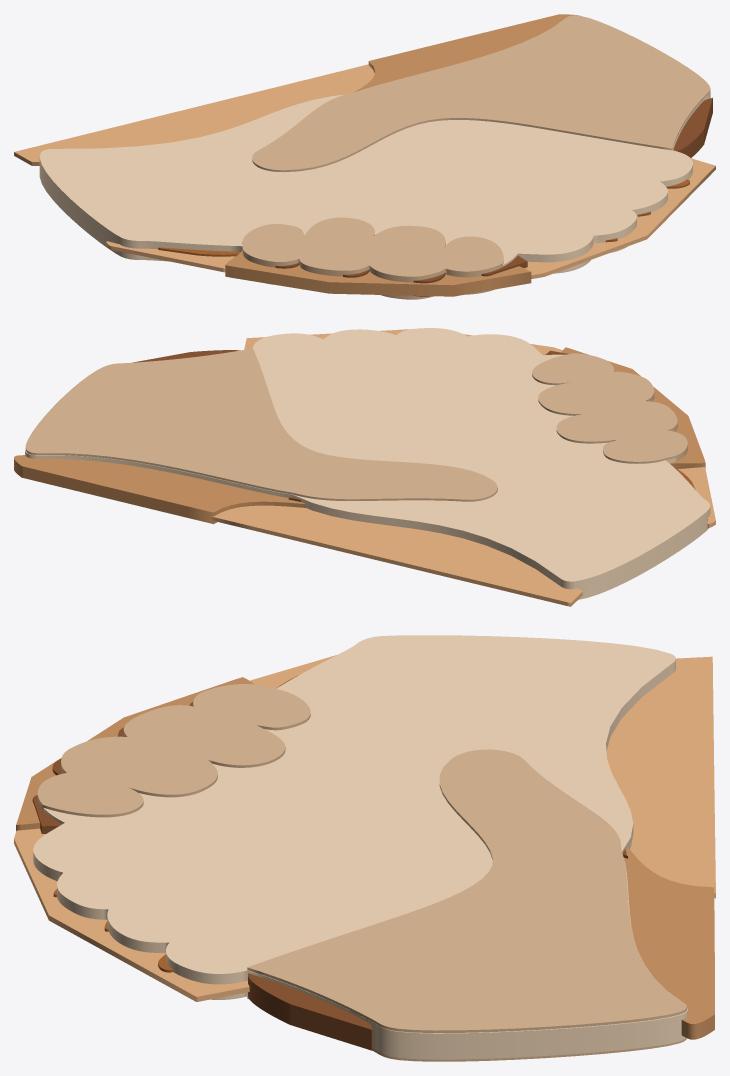
The model's file is emoji_u1faf1_1f3fb_200d_1faf2_1f3fc.glb.
3 renders of one model, top to bottom at view 1: azimuth 30°, elevation 25°; view 2: azimuth 150°, elevation 25°; view 3: azimuth 270°, elevation 25°, orthographic. The views are drawn at different scales.
Parts seen in each view (by area): view 1: emoji_u1faf1_1f3fb_200d_1faf2_1f3fc; view 2: emoji_u1faf1_1f3fb_200d_1faf2_1f3fc; view 3: emoji_u1faf1_1f3fb_200d_1faf2_1f3fc.
Boxes of the visible parts, x1,y1,x2,y2 form: emoji_u1faf1_1f3fb_200d_1faf2_1f3fc: (14, 14, 715, 299); emoji_u1faf1_1f3fb_200d_1faf2_1f3fc: (14, 328, 715, 606); emoji_u1faf1_1f3fb_200d_1faf2_1f3fc: (14, 635, 715, 1061).
Bounding box in the file's own units: 0.0332 × 0.0012 × 0.0244.
